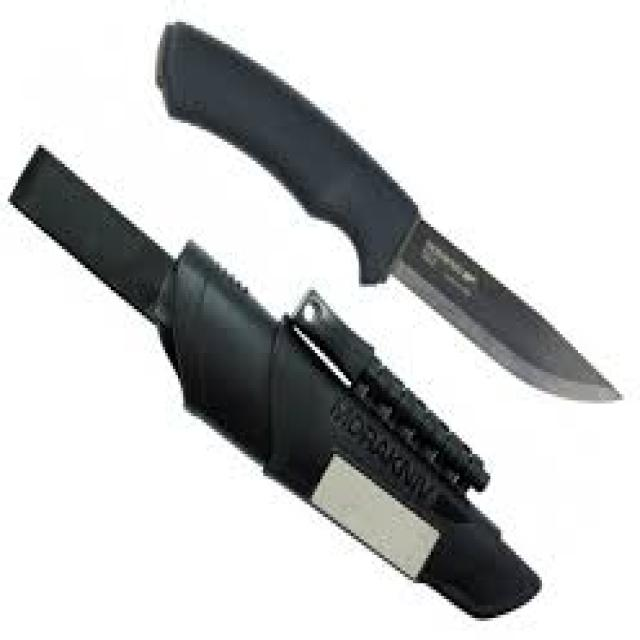knives: (138, 8, 631, 418)
